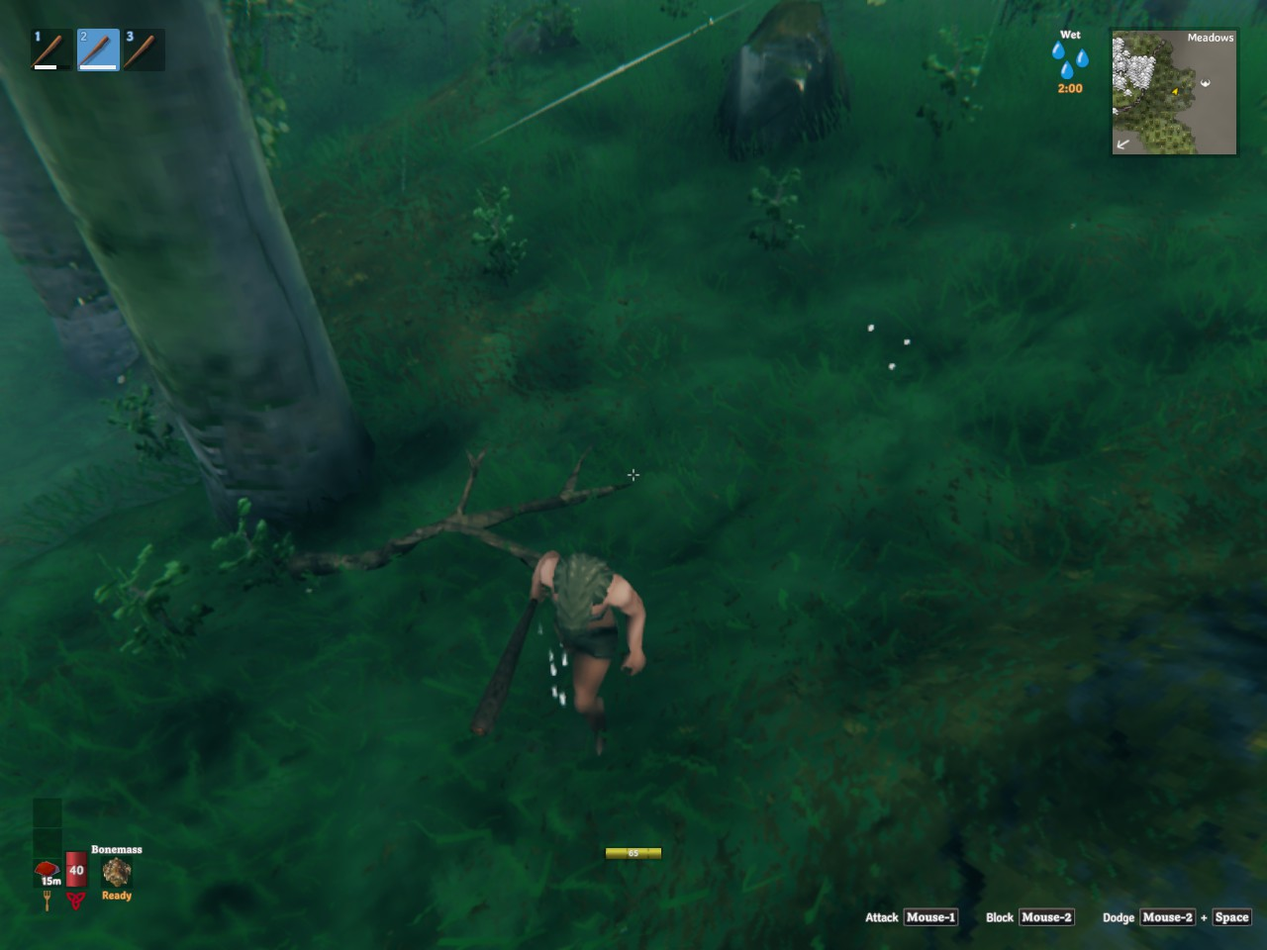Branch: (288, 449, 633, 576)
Food Indicator: (36, 797, 63, 891)
Health Bar: (63, 820, 90, 891)
Hotbar: (24, 21, 195, 80)
Stamina Bar: (600, 841, 673, 867)
Status Indicator: (1024, 22, 1111, 100)
